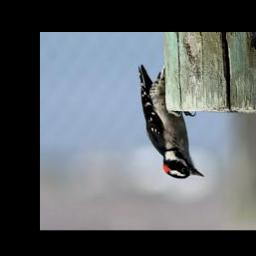Woodpecker: (137, 66, 205, 180)
